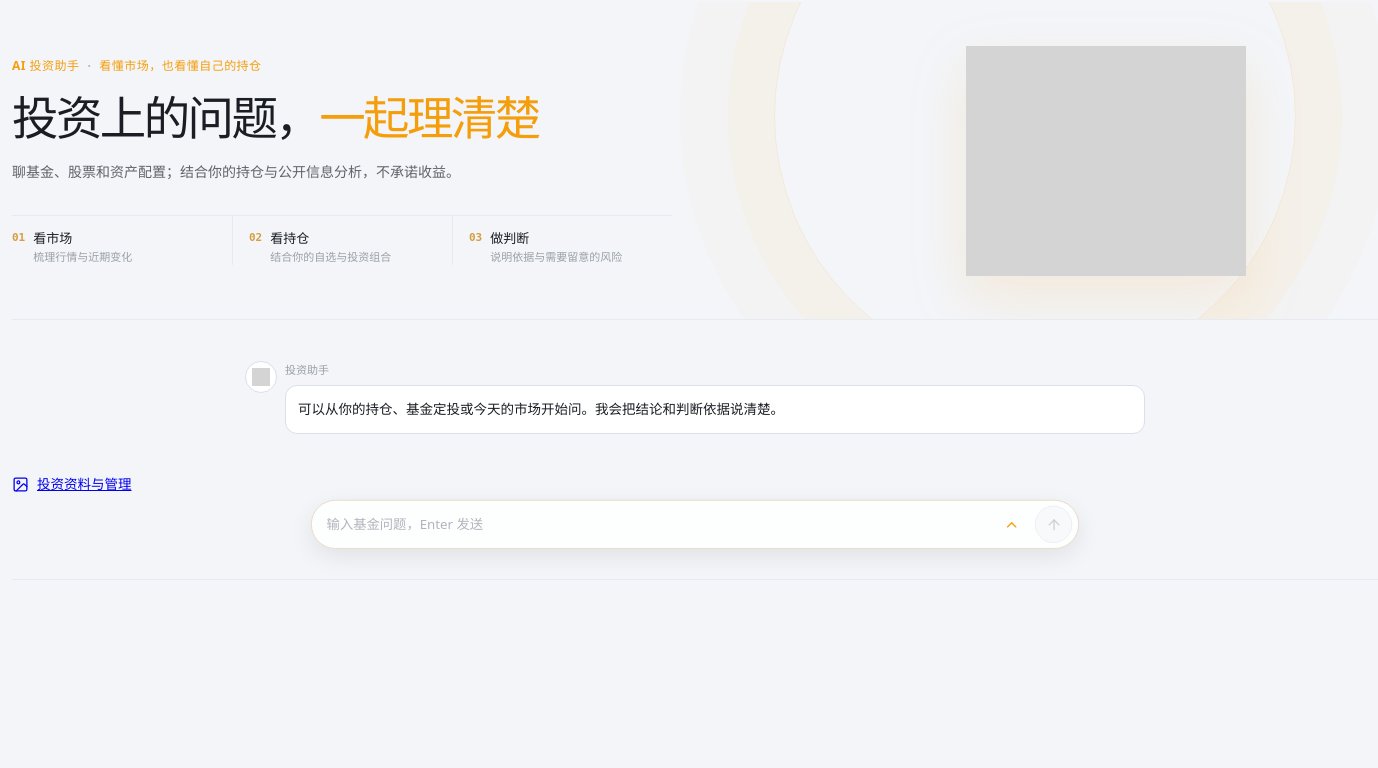
Test: Investment assistant chat › clears the composer immediately after sending a typed question
The image size is (1378, 768).
Type "美国" into the text box named "基金分析输入框" at (657, 524), box [327, 507, 988, 542]
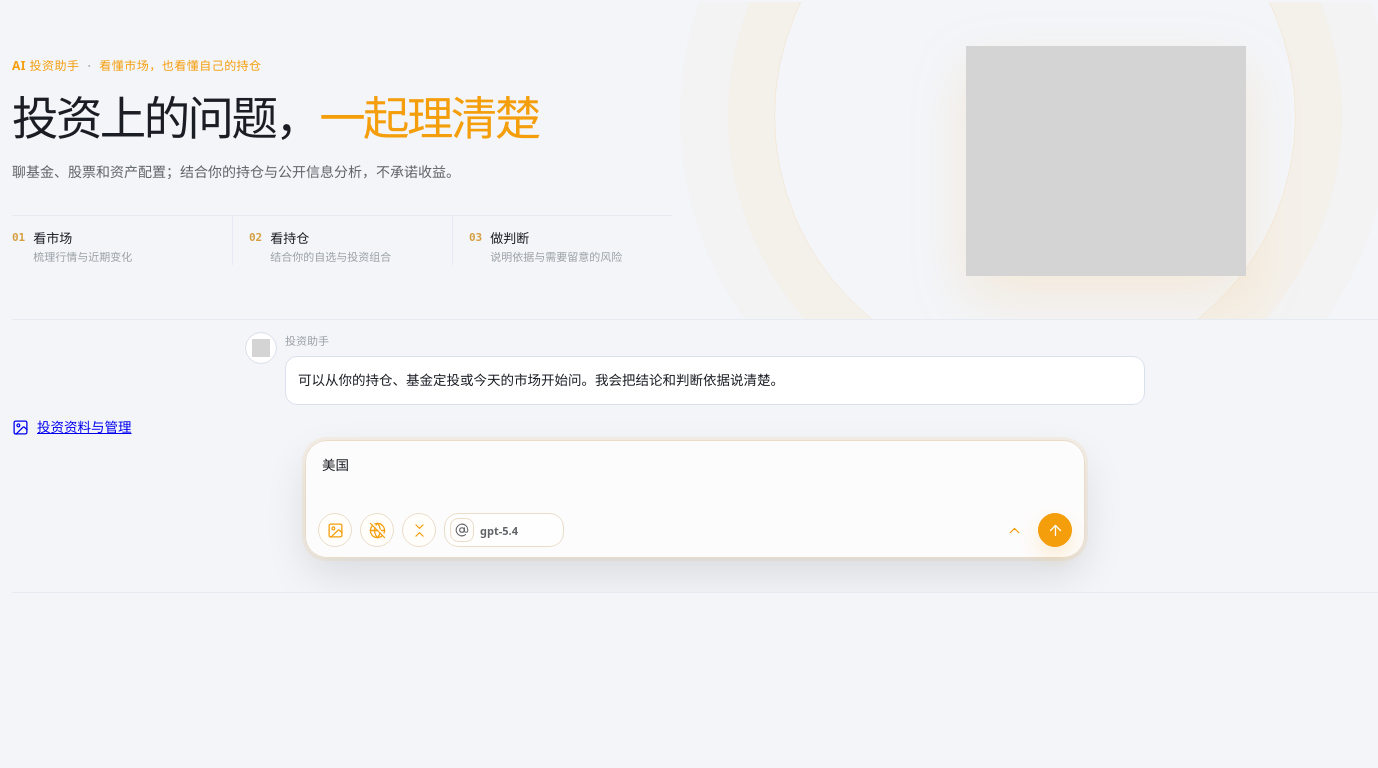
Click the button named "开始分析" at (1055, 530), box [1038, 513, 1072, 547]
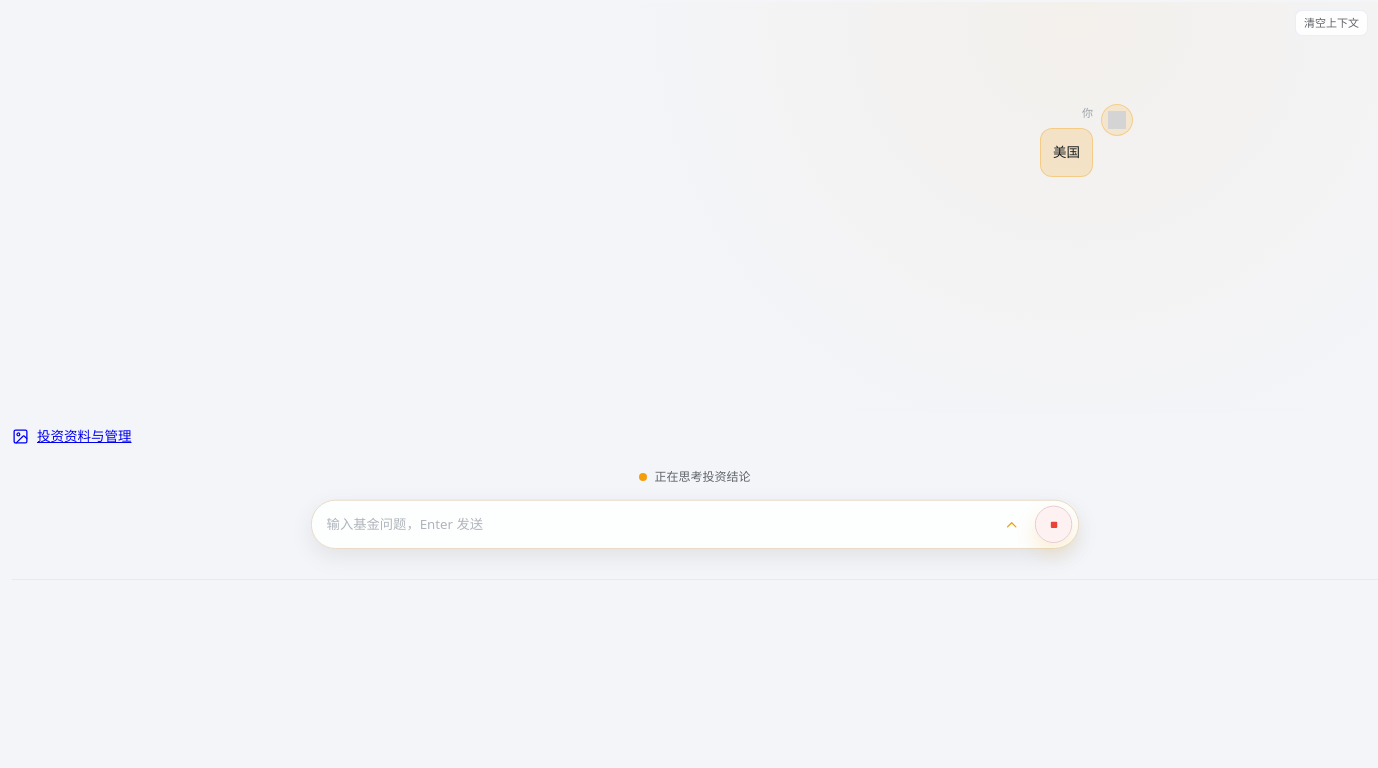
Result: the text box named "基金分析输入框" is empty at [327, 507, 988, 542]
Result: the text "美国" is shown at [1053, 141, 1080, 164]
